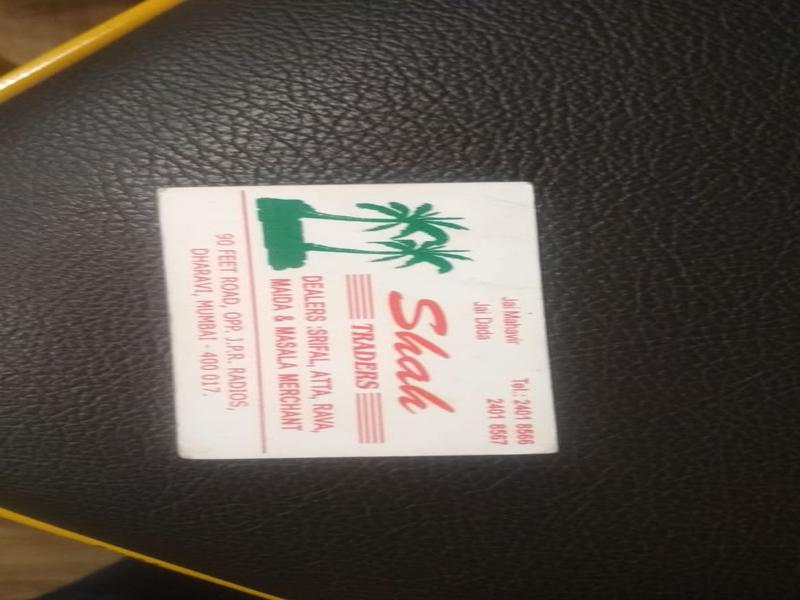card: (155, 185, 567, 463)
